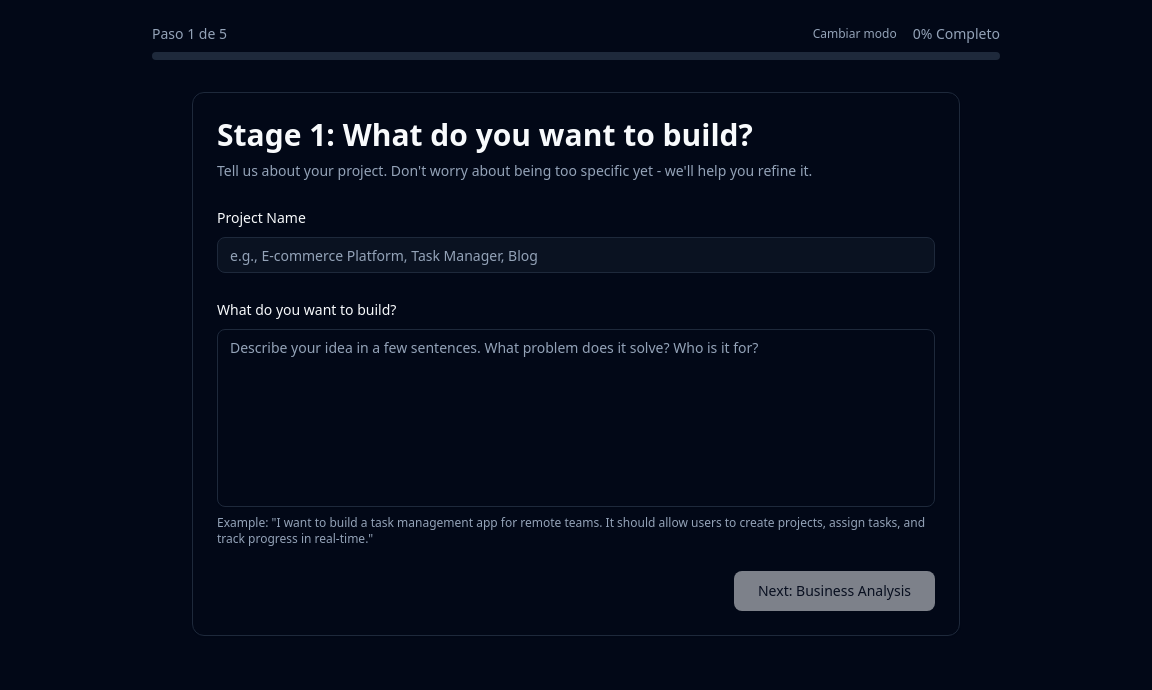
Test case: WizardContainer › progresses to Stage 2 when Stage 1 is completed
The width and height of the screenshot is (1152, 690).
Step 1. Type "Test Project" into the field with placeholder "e.g., E-commerce Platform, Task Manager, Blog" → [576, 255], box [217,237,935,273]
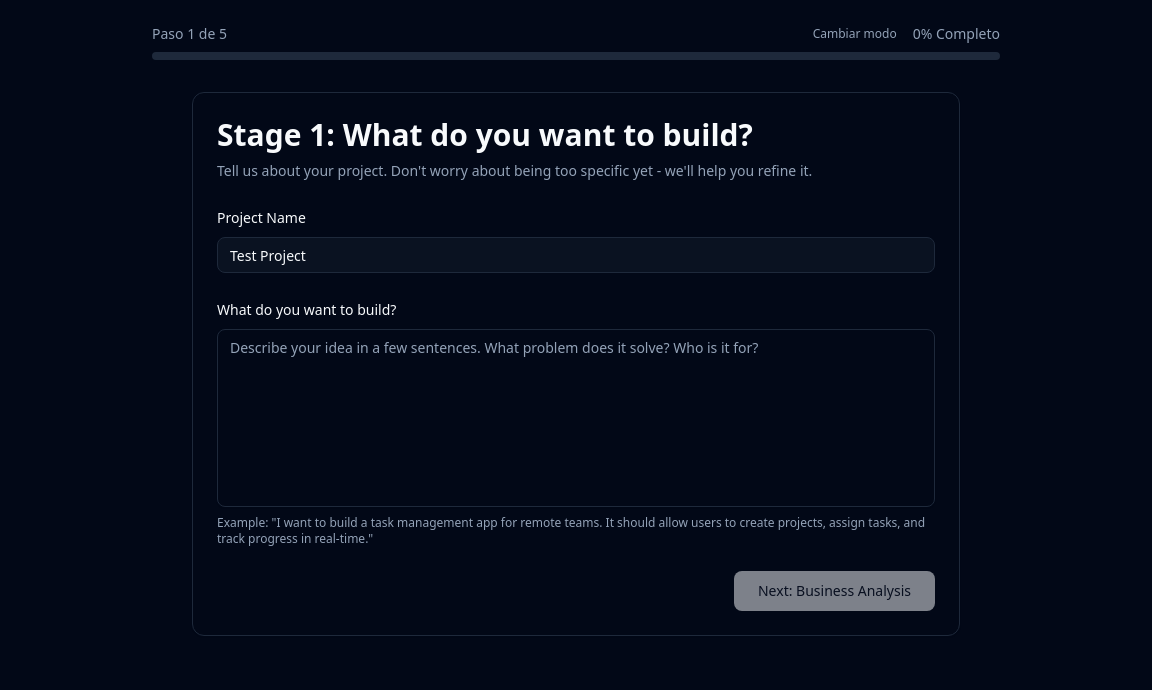
Step 2. Replace the text in the text box with placeholder "Describe your idea" with "Test Description" → [576, 418], box [217,329,935,507]
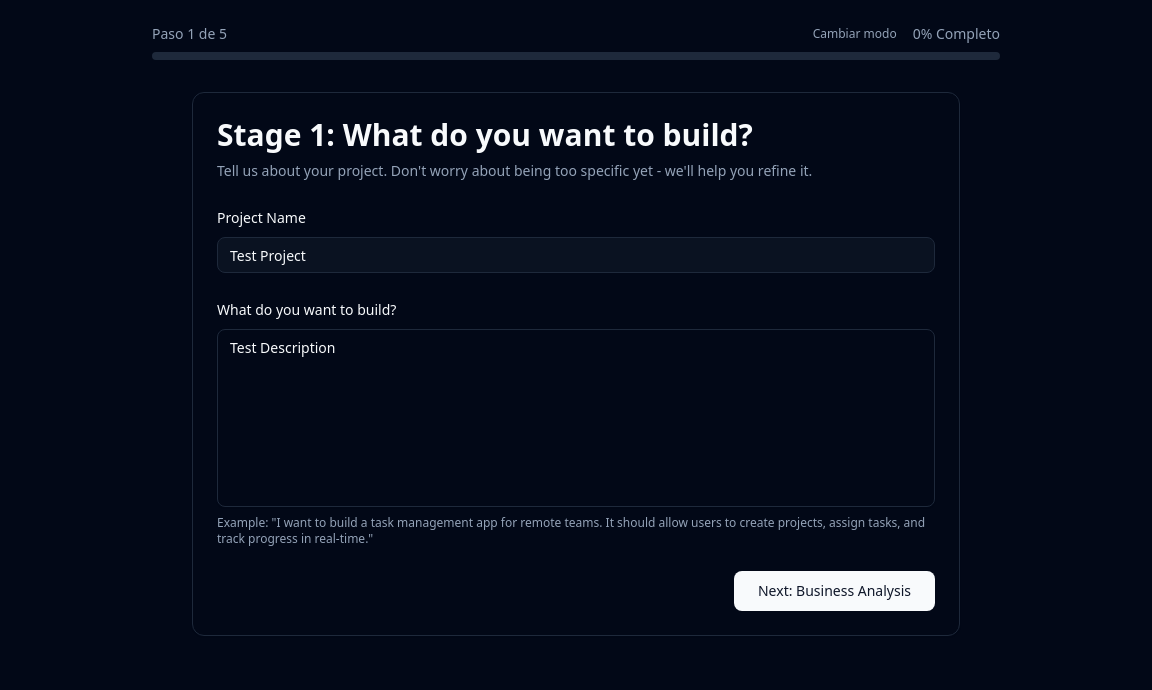
Step 3. Click the button "Next: Business Analysis" → [834, 591], box [734,571,935,611]
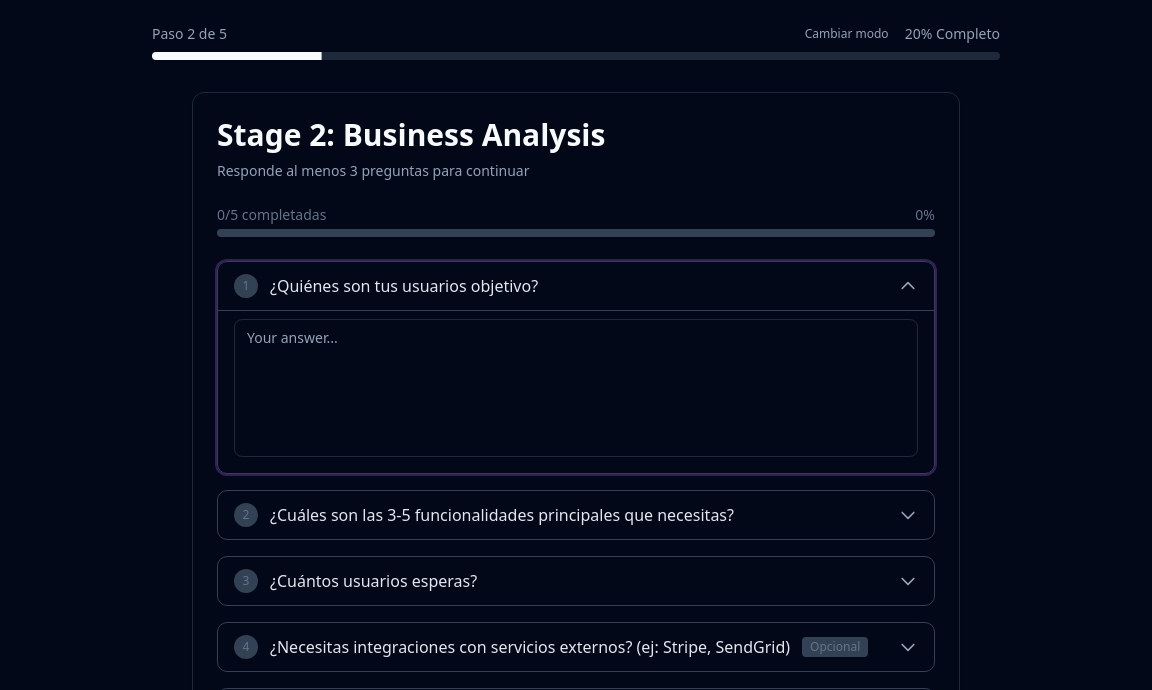
expect the text "Stage 2: Business Analysis" is shown: met, box [217,114,605,155]
